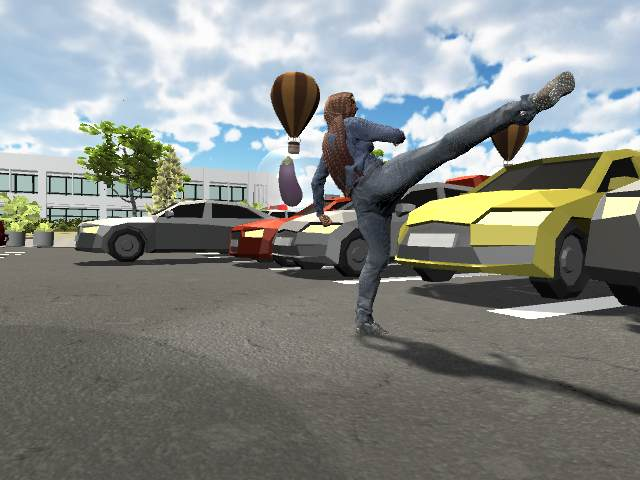turn_right: (311, 69, 576, 351)
